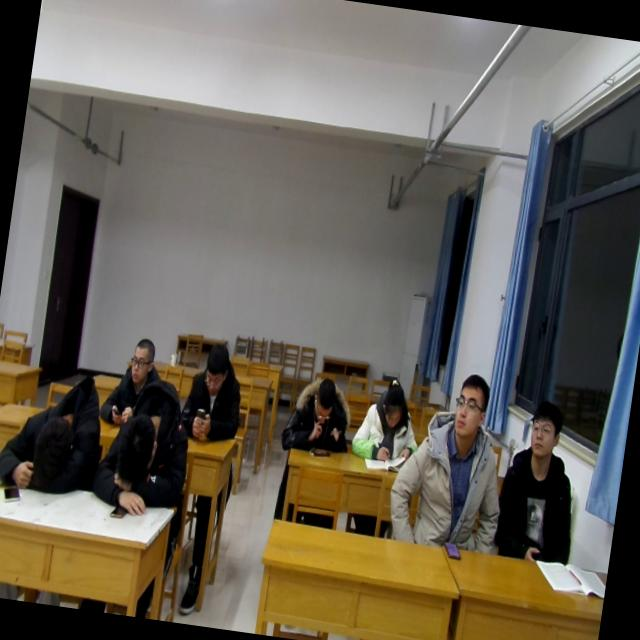bow: (90, 381, 199, 526), (0, 369, 110, 499)
down: (377, 366, 412, 431), (198, 334, 232, 398), (308, 369, 339, 427)
lookup: (447, 364, 494, 440), (524, 396, 568, 462), (125, 332, 158, 392)
sit: (384, 362, 518, 558), (489, 390, 595, 564), (176, 332, 252, 444), (347, 372, 428, 471), (278, 368, 358, 461), (102, 327, 164, 427)
